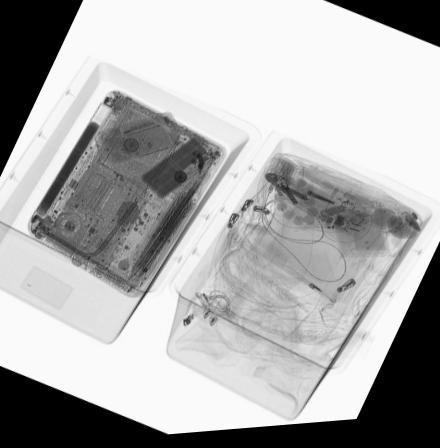Powerbank: (140, 137, 215, 202)
